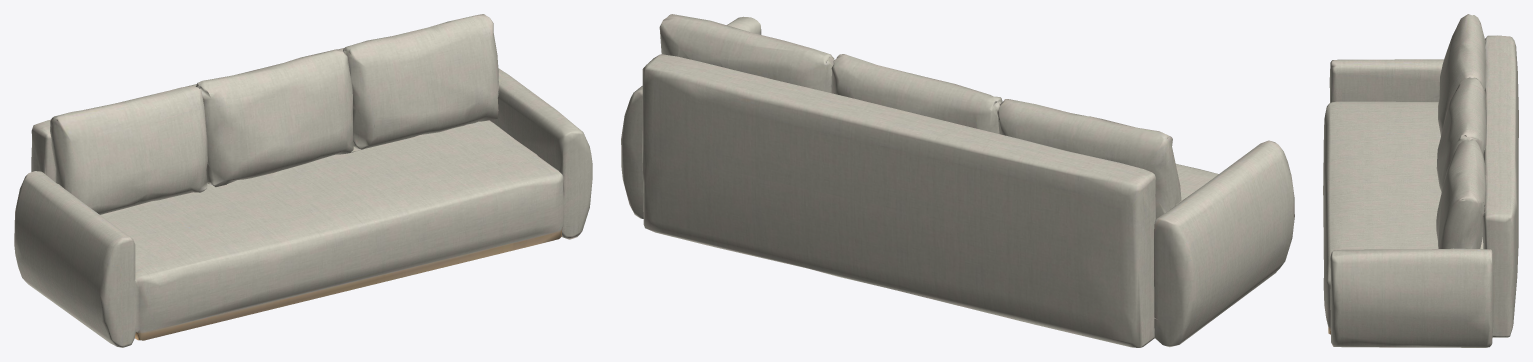
The model's file is grunnarp_sofa_3_osobowa_rozkadana_30583384.glb.
3 views of the same model, side by side, from view 1: azimuth 30°, elevation 25°; view 2: azimuth 150°, elevation 25°; view 3: azimuth 270°, elevation 25° (orthographic). The views are drawn at different scales.
Parts seen in each view (by area): view 1: grunnarp_sofa_3_osobowa_rozkadana_30583384; view 2: grunnarp_sofa_3_osobowa_rozkadana_30583384; view 3: grunnarp_sofa_3_osobowa_rozkadana_30583384.
Boxes of the visible parts, box(x1,y1,x2,y2) form: grunnarp_sofa_3_osobowa_rozkadana_30583384: box(14, 14, 592, 347); grunnarp_sofa_3_osobowa_rozkadana_30583384: box(621, 14, 1294, 347); grunnarp_sofa_3_osobowa_rozkadana_30583384: box(1323, 14, 1518, 347).
Bounding box in the file's own units: 2.32 × 0.7691 × 0.9197.
Materials: 1 (1 with a texture image).
